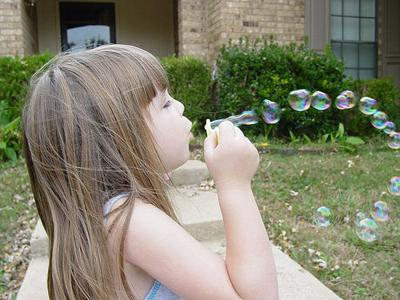person: (24, 43, 285, 300)
